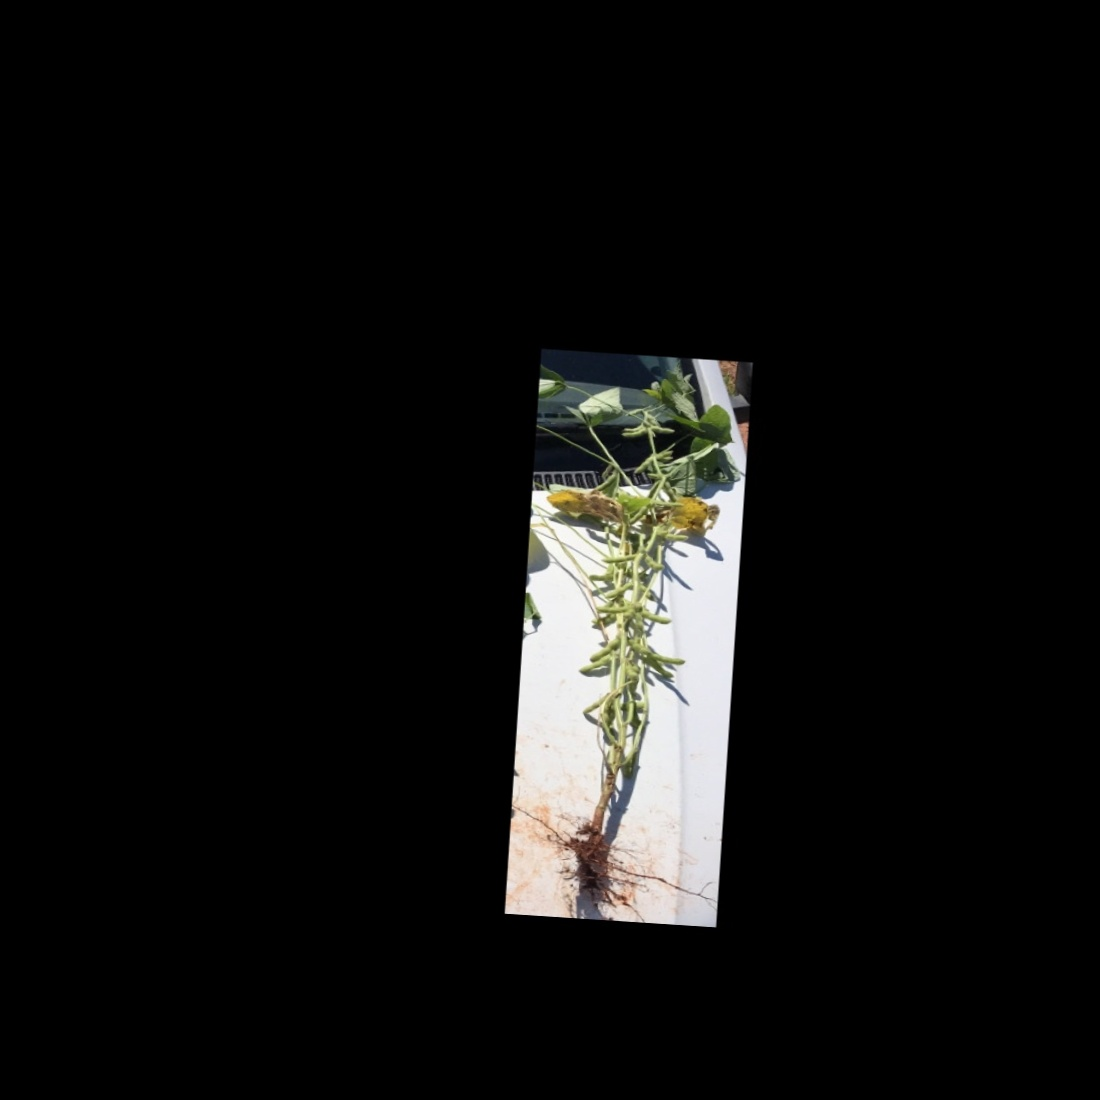pod: (588, 634, 622, 664), (641, 647, 686, 668), (621, 634, 655, 659), (577, 654, 611, 678), (634, 605, 676, 625), (580, 689, 608, 716), (601, 578, 635, 600), (638, 550, 666, 574), (600, 550, 637, 566), (655, 530, 692, 545), (593, 601, 629, 616), (631, 456, 652, 477)
soy: (514, 366, 736, 907)
